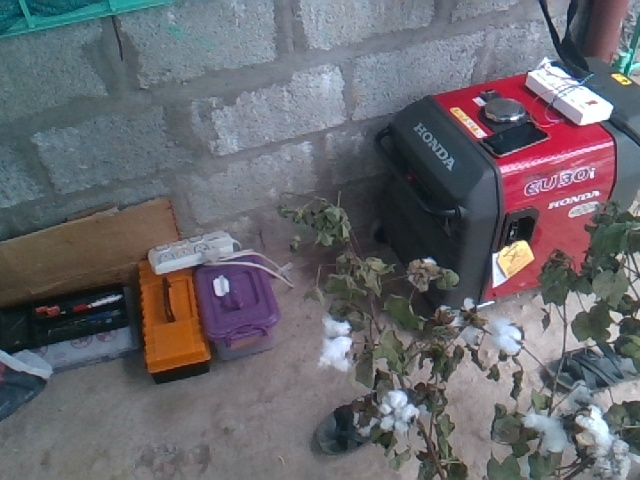cotton: (574, 406, 615, 455), (522, 409, 567, 453), (379, 387, 418, 435), (483, 319, 525, 357), (321, 337, 352, 369), (322, 318, 351, 337)
